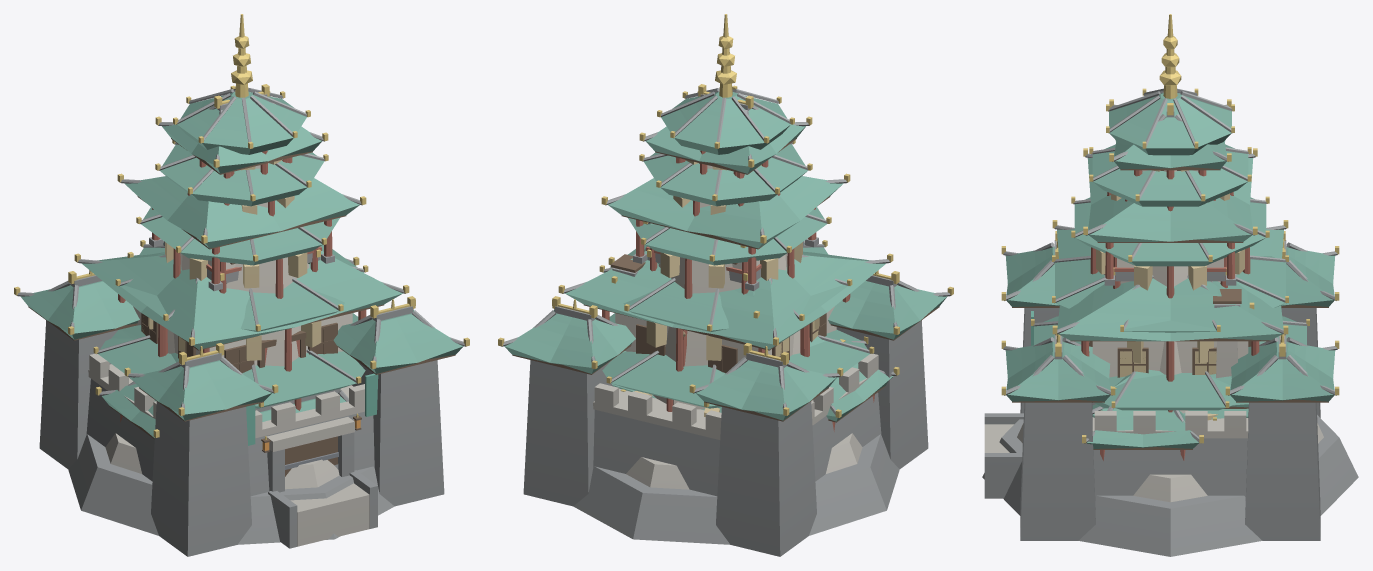
Rendered from frontier-jade-heroes.glb.
3 views of the same model, side by side, from view 1: azimuth 30°, elevation 25°; view 2: azimuth 150°, elevation 25°; view 3: azimuth 270°, elevation 25° (orthographic).
Visible parts, largest first — view 1: building_keep_jade_0_stoneDark, building_keep_jade_0_jadeRoof, building_wonder_jade_0_jadeRoof, building_wonder_jade_0_stoneDark, building_keep_jade_0_stone, building_wonder_jade_0_stone, building_keep_jade_0_darkwood, building_wonder_jade_0_glass, building_wonder_jade_0_plaster, building_keep_jade_0_gold, building_wonder_jade_0_gold, building_wonder_jade_0_lacquer (+5 smaller); view 2: building_keep_jade_0_stoneDark, building_keep_jade_0_jadeRoof, building_wonder_jade_0_jadeRoof, building_wonder_jade_0_stoneDark, building_keep_jade_0_stone, building_keep_jade_0_darkwood, building_wonder_jade_0_glass, building_wonder_jade_0_plaster, building_wonder_jade_0_stone, building_keep_jade_0_gold, building_wonder_jade_0_gold, building_wonder_jade_0_lacquer (+4 smaller); view 3: building_keep_jade_0_jadeRoof, building_keep_jade_0_stoneDark, building_wonder_jade_0_jadeRoof, building_wonder_jade_0_stoneDark, building_keep_jade_0_stone, building_wonder_jade_0_stone, building_towncenter_jade_2_jadeRoof, building_keep_jade_0_darkwood, building_keep_jade_0_plaster, building_wonder_jade_0_gold, building_wonder_jade_0_glass, building_keep_jade_0_gold (+6 smaller).
Boxes of the visible parts, x1,y1,x2,y2 form: building_keep_jade_0_stoneDark: (17,94,466,556); building_keep_jade_0_jadeRoof: (20,124,463,420); building_wonder_jade_0_jadeRoof: (98,91,365,408); building_wonder_jade_0_stoneDark: (68,88,394,548); building_keep_jade_0_stone: (88,353,364,451); building_wonder_jade_0_stone: (105,433,369,546); building_keep_jade_0_darkwood: (28,138,455,476); building_wonder_jade_0_glass: (148,159,321,360); building_wonder_jade_0_plaster: (167,163,309,366); building_keep_jade_0_gold: (14,84,469,439); building_wonder_jade_0_gold: (93,14,368,407); building_wonder_jade_0_lacquer: (158,150,317,410); building_keep_jade_0_stoneDark: (501,94,950,556); building_keep_jade_0_jadeRoof: (504,124,947,420); building_wonder_jade_0_jadeRoof: (602,91,869,408); building_wonder_jade_0_stoneDark: (573,88,899,544); building_keep_jade_0_stone: (593,353,879,439); building_keep_jade_0_darkwood: (512,138,939,421); building_wonder_jade_0_glass: (634,159,819,416); building_wonder_jade_0_plaster: (653,163,800,409); building_wonder_jade_0_stone: (626,433,862,489); building_keep_jade_0_gold: (498,84,953,415); building_wonder_jade_0_gold: (599,14,874,407); building_wonder_jade_0_lacquer: (650,150,809,411); building_keep_jade_0_jadeRoof: (1005,140,1335,401); building_keep_jade_0_stoneDark: (1003,92,1337,540); building_wonder_jade_0_jadeRoof: (1034,93,1306,410); building_wonder_jade_0_stoneDark: (982,88,1358,556); building_keep_jade_0_stone: (1092,411,1248,438); building_wonder_jade_0_stone: (984,423,1323,502); building_towncenter_jade_2_jadeRoof: (1086,374,1248,448); building_keep_jade_0_darkwood: (1012,166,1328,402); building_keep_jade_0_plaster: (1092,170,1248,377); building_wonder_jade_0_gold: (1031,14,1309,407); building_wonder_jade_0_glass: (1089,170,1244,420); building_keep_jade_0_gold: (1001,99,1339,395).
Bounding box in the file's own units: 11.6 × 16.25 × 11.6.
